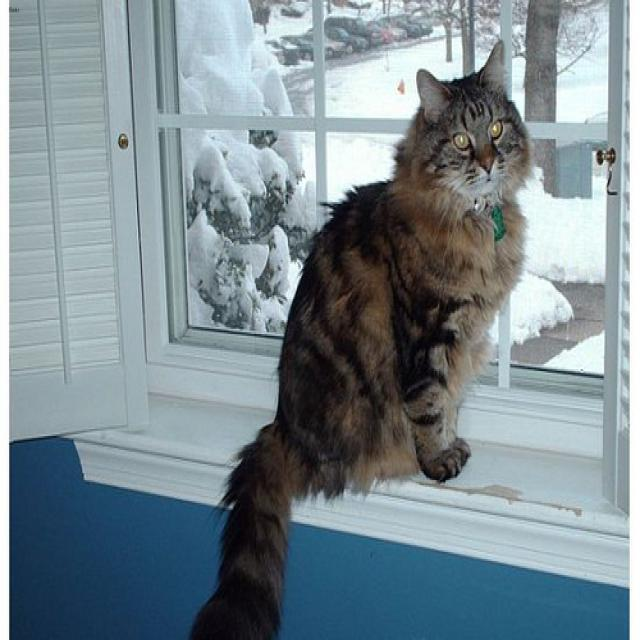Maine_Coon: (415, 39, 521, 192)
